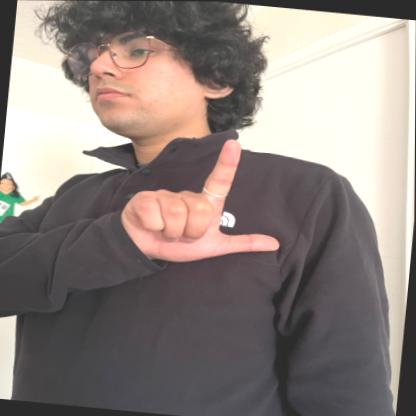L: (121, 128, 293, 272)
